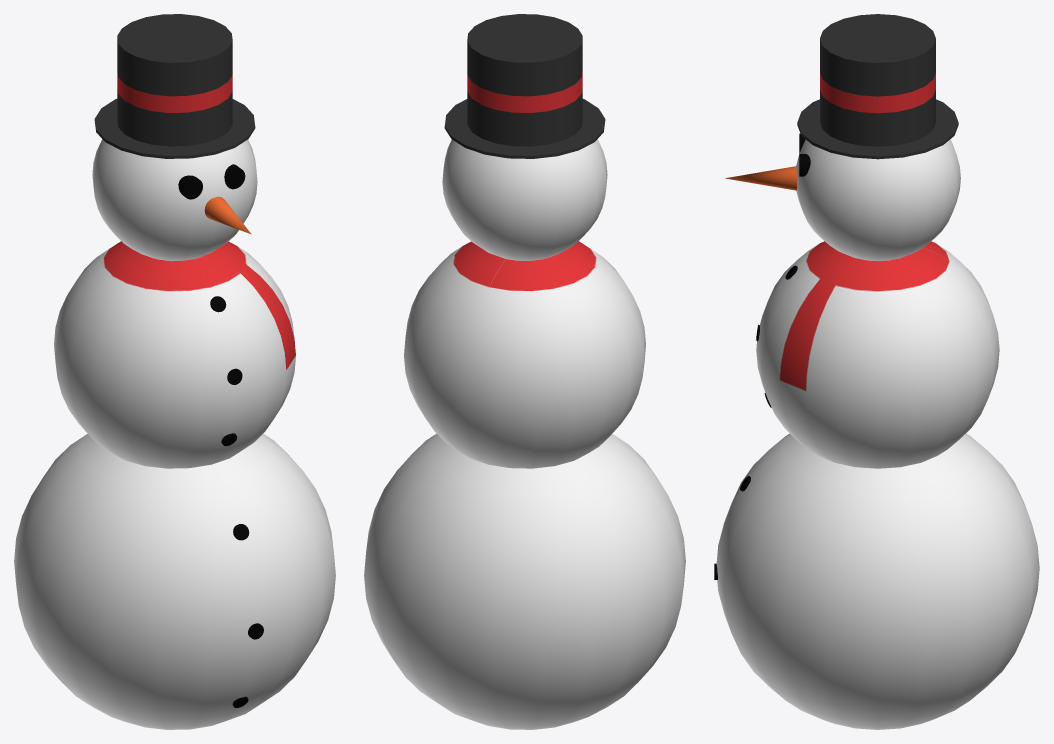
File: snowman.glb
3 views of the same model, side by side, from view 1: azimuth 30°, elevation 25°; view 2: azimuth 150°, elevation 25°; view 3: azimuth 270°, elevation 25° (orthographic).
Parts seen in each view (by area): view 1: Object_2; view 2: Object_2; view 3: Object_2.
Boxes of the visible parts, bbox=[...] form: Object_2: bbox=[14, 14, 335, 729]; Object_2: bbox=[364, 14, 685, 729]; Object_2: bbox=[714, 14, 1039, 729].
Size of the model in its own units: 1.95 by 4.5 by 1.96.
1 material, 1 textured.
